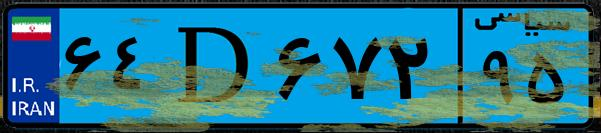2: (385, 28, 445, 110)
4: (110, 28, 158, 98)
5: (525, 38, 570, 115)
6: (270, 28, 330, 110), (57, 26, 110, 100)
7: (330, 28, 385, 110)
9: (475, 38, 525, 113)
D: (158, 12, 270, 120)
